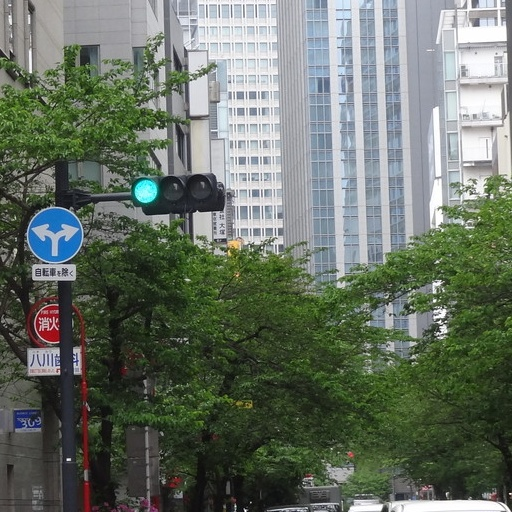Traffic_Signal_Blue: (125, 169, 219, 215)
